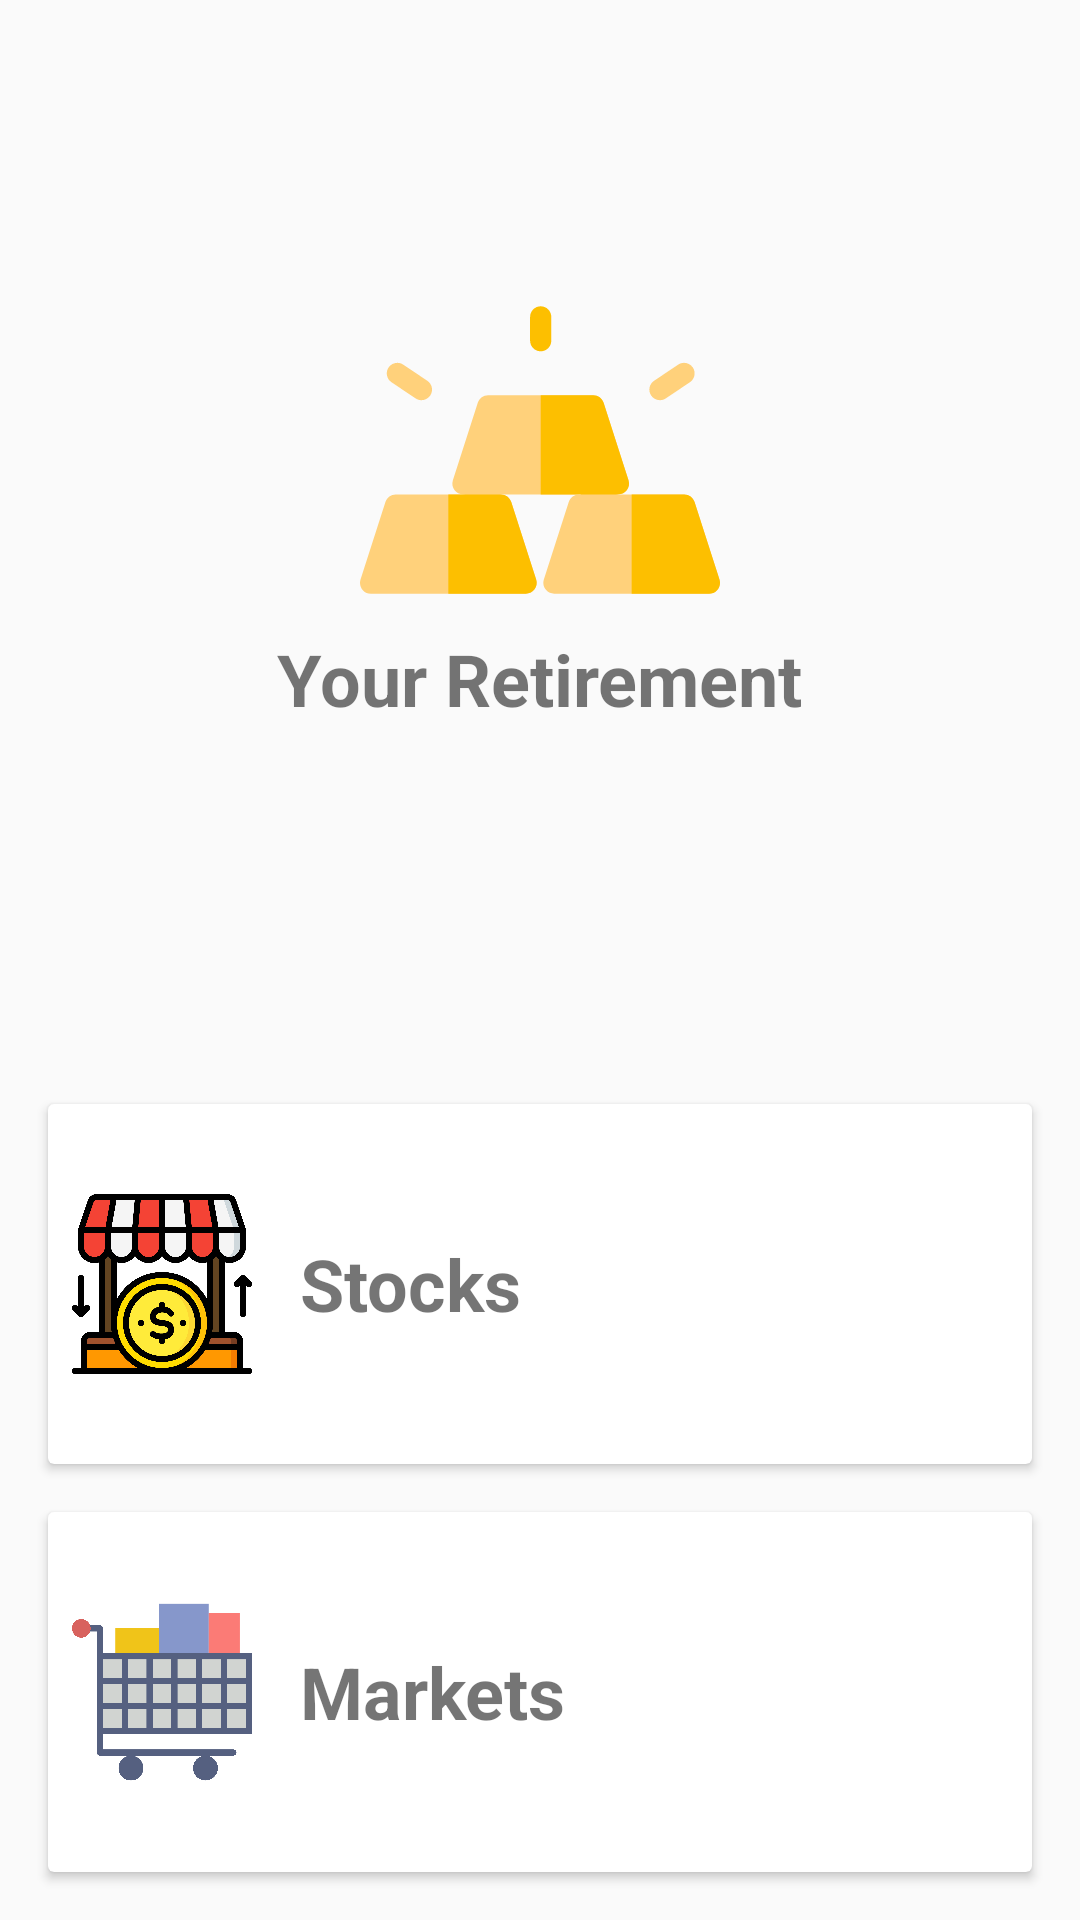

Point at icon controls on the screen. Image size 1080w x 1920h, points as (x=x, y=y).
cart: (x=162, y=1692)
gold: (x=540, y=450)
